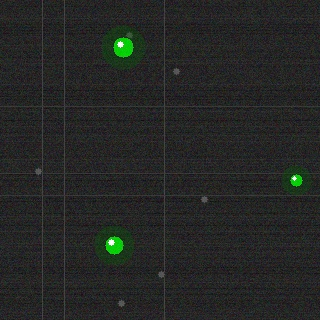green_normal: (111, 35, 135, 59), (103, 234, 125, 256), (288, 172, 304, 188)
